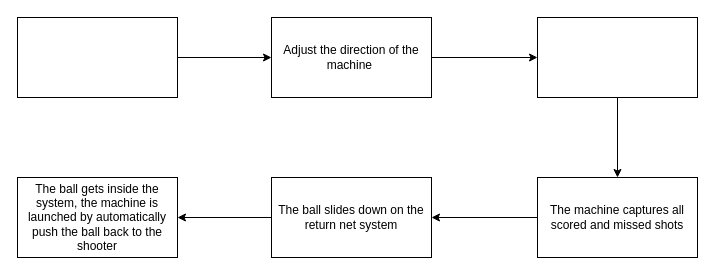
The diagram is 715 pixels wide and 275 high, and some of its shapes have lost their labels. Here are the shapes that lost their labels. From the top down, the box of each, then its label:
(16, 16, 178, 98): Attach the machine to the rim
(536, 16, 698, 98): Start shooting the ball
